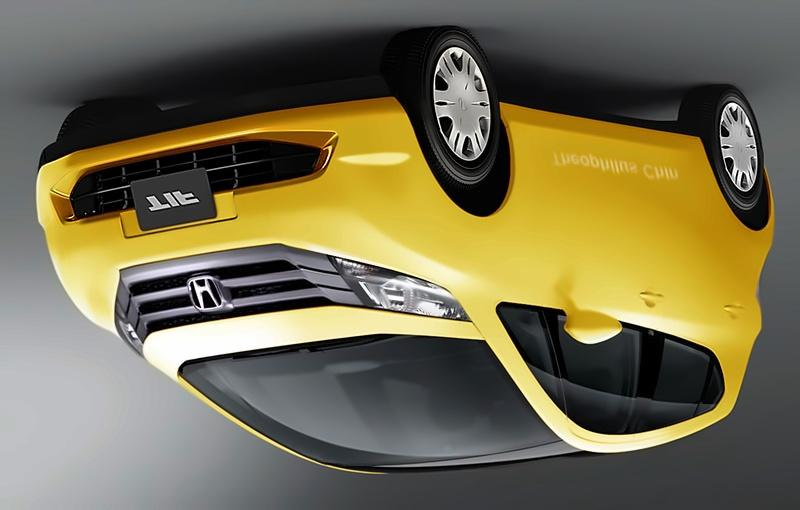Car hood: (129, 301, 488, 392)
Driver-s door - -F-R-: (490, 89, 647, 467)
Fender - -F-R-: (408, 166, 535, 246)
Fender - -R-R-: (702, 180, 785, 249)
Front bumper: (34, 93, 418, 316)
Headlight - -R-: (325, 253, 473, 325)
Passenger-s door - -R-R-: (603, 101, 752, 463)
Side bumper - -R-: (496, 91, 716, 190)
